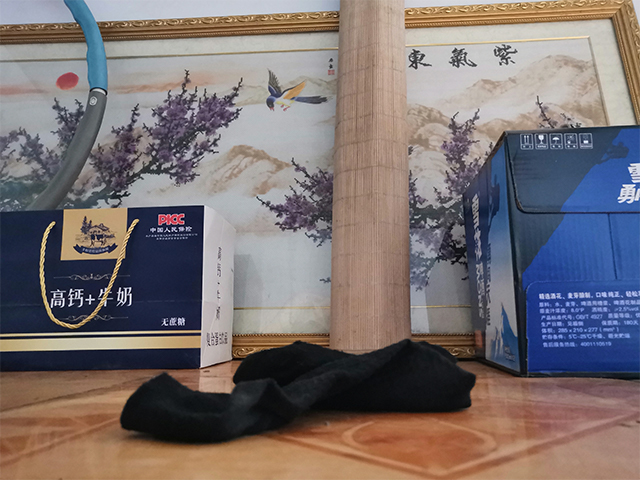socks: (114, 336, 481, 446)
